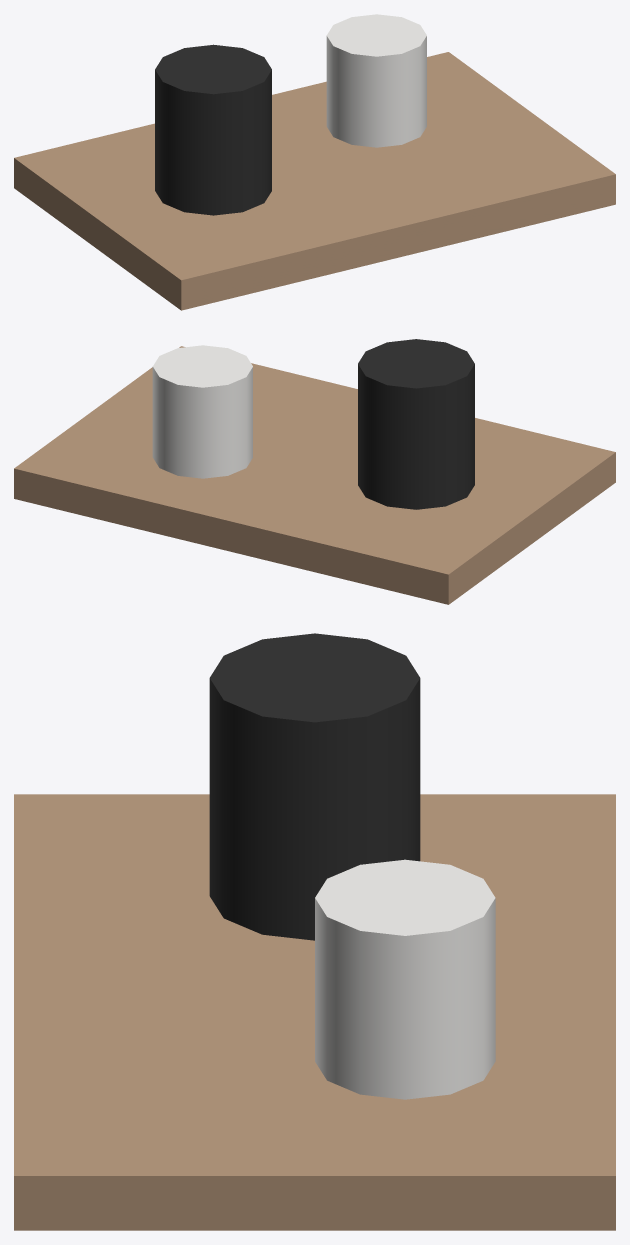
File: SM_Decor_BathTray.fbx
The picture shows the model from 3 angles, top to bottom: view 1: azimuth 30°, elevation 25°; view 2: azimuth 150°, elevation 25°; view 3: azimuth 270°, elevation 25°; orthographic projection. The views are drawn at different scales.
Visible parts, largest first — view 1: SM_Decor_BathTray; view 2: SM_Decor_BathTray; view 3: SM_Decor_BathTray.
Part boxes in pixels (left/top/right/bottom): SM_Decor_BathTray: left=14, top=14, right=615, bottom=310; SM_Decor_BathTray: left=14, top=339, right=615, bottom=604; SM_Decor_BathTray: left=14, top=633, right=615, bottom=1230.
Size of the model in its own units: 30 by 10 by 20.
